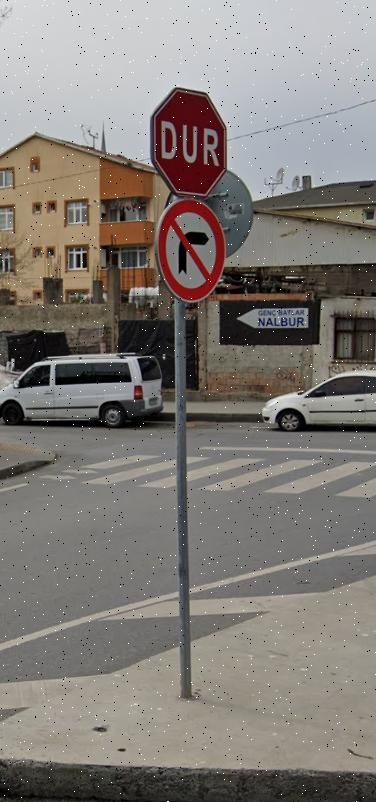rightturnsareforbidden: (156, 200, 221, 295)
stop: (152, 84, 229, 193)
